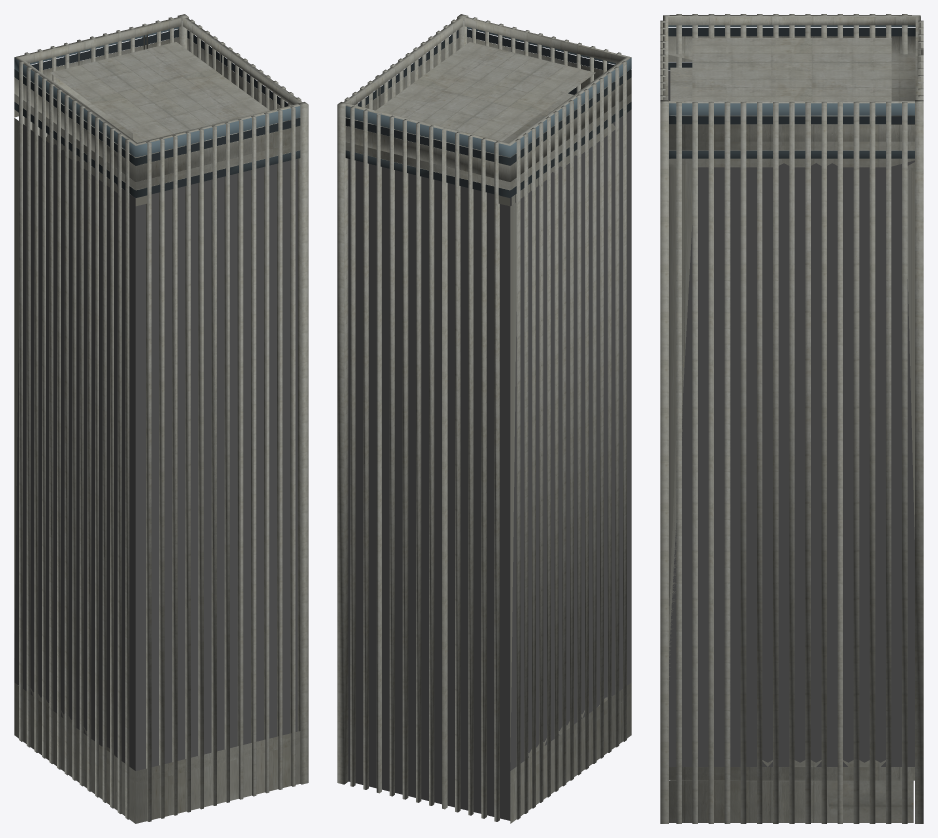
The model's file is office building.glb.
3 renders of one model, left to right at view 1: azimuth 30°, elevation 25°; view 2: azimuth 150°, elevation 25°; view 3: azimuth 270°, elevation 25°, orthographic. The views are drawn at different scales.
Parts seen in each view (by area): view 1: Offcie Building; view 2: Offcie Building; view 3: Offcie Building.
Boxes of the visible parts, x1,y1,x2,y2 form: Offcie Building: (14, 14, 308, 823); Offcie Building: (337, 14, 631, 823); Offcie Building: (660, 14, 923, 823).
Size of the model in its own units: 22.02 by 82.35 by 27.3.
Materials: 4 (1 with a texture image).
